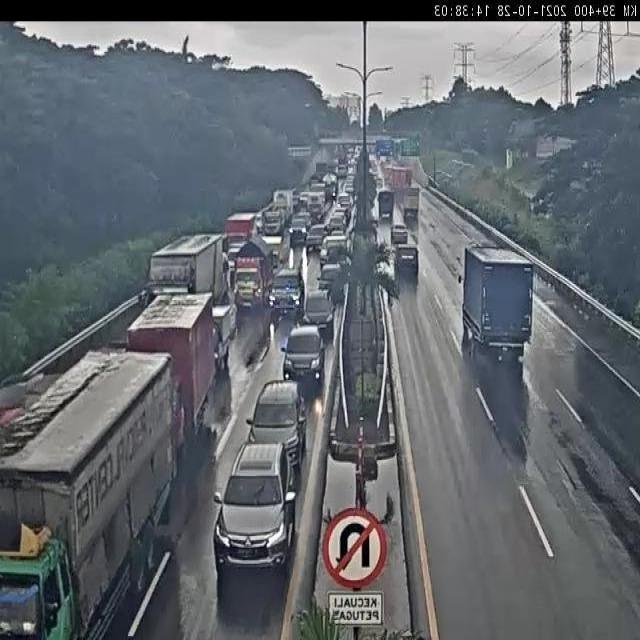Car: (213, 441, 300, 576), (246, 378, 308, 471), (281, 320, 326, 390), (300, 287, 336, 342), (269, 266, 305, 320), (317, 262, 345, 296), (392, 244, 420, 275), (288, 217, 308, 246), (306, 224, 326, 250), (328, 217, 346, 236), (391, 224, 408, 244), (254, 212, 264, 234), (375, 176, 383, 189)
Truck: (0, 345, 180, 640), (125, 288, 215, 433), (461, 246, 534, 369), (138, 230, 223, 309), (233, 238, 276, 312), (208, 303, 233, 373), (223, 210, 258, 249), (258, 233, 284, 267), (223, 238, 249, 269), (272, 188, 295, 218), (262, 208, 284, 235), (377, 188, 394, 222), (402, 187, 420, 217), (392, 166, 409, 192), (382, 164, 394, 187)
